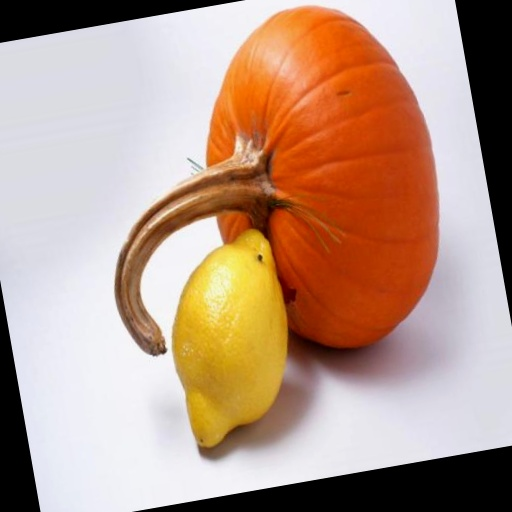fruit: (115, 7, 438, 354), (172, 229, 287, 447)
